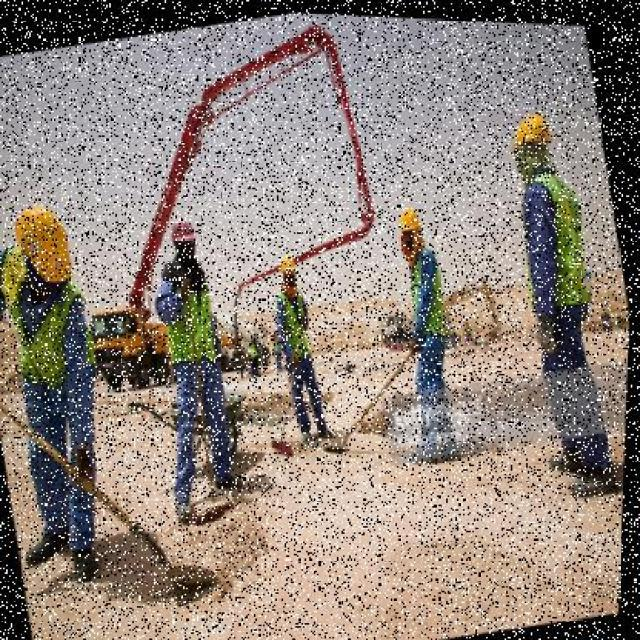helmet: (5, 197, 85, 307)
vest: (163, 270, 229, 372), (273, 288, 320, 370)
